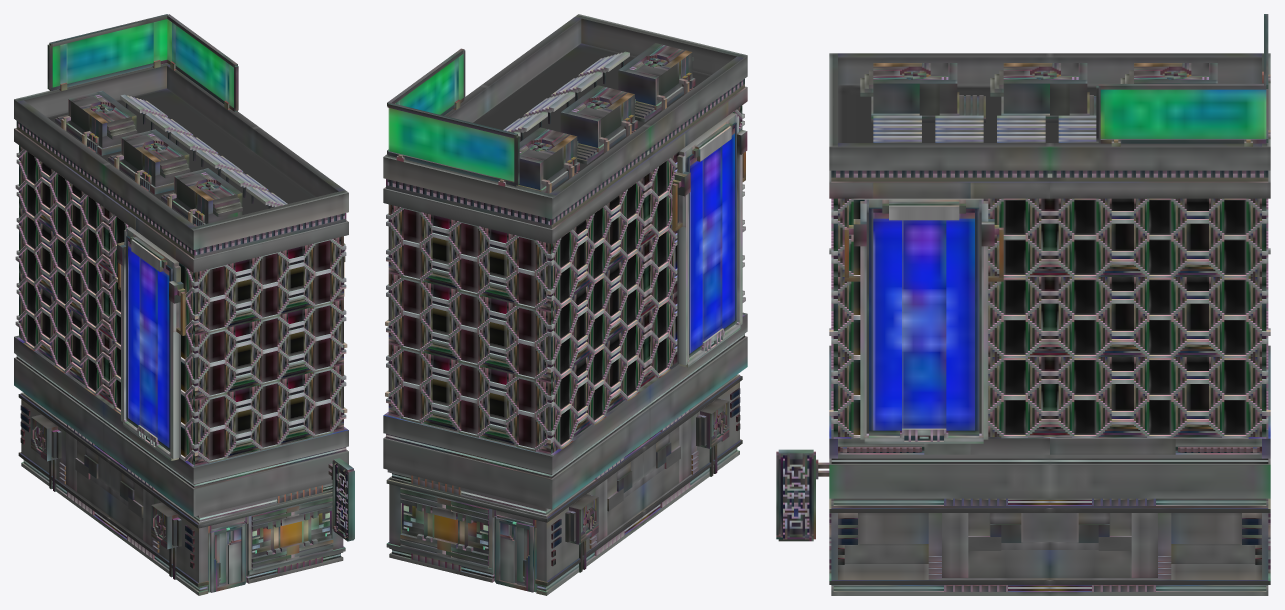
File: Building_06.glb
3 views of the same model, side by side, from view 1: azimuth 30°, elevation 25°; view 2: azimuth 150°, elevation 25°; view 3: azimuth 270°, elevation 25° (orthographic). The views are drawn at different scales.
Visible parts, largest first — view 1: Module_Windows_Unlit_I_00, Module_Windows_Unlit_E_00, Module_Door_B_02_1, Screen_A_02_1, Rooftop_A_01, Module_Windows_Unlit_G_00, Rooftop_A_01_1, Screen_J_00, Module_Flat_A_01_1, Module_Windows_Unlit_J_00, Module_Windows_Unlit_F_00, Module_Windows_Unlit_H_00 (+15 smaller); view 2: Module_Windows_Unlit_J_00, Module_Windows_Unlit_F_00, Module_Windows_Unlit_H_00, Module_Door_B_02, Screen_A_02_1, Rooftop_A_01, Rooftop_A_01_1, Screen_J_00, Module_Flat_A_01, Module_Door_B_02_1, Module_Windows_Unlit_E_00, Fan_D_03_1 (+12 smaller); view 3: Screen_A_02, Module_Windows_Unlit_J_00, Module_Windows_Unlit_F_00, Module_Door_B_02, Module_Door_B_02_1, Module_Windows_Unlit_H_00, Rooftop_A_01, Rooftop_A_01_1, Module_Windows_Unlit_I_00, Module_Windows_Unlit_E_00, Screen_J_00, Module_Flat_A_01 (+10 smaller).
Part boxes in pixels (box(x1,y1,x2,y2)): Module_Windows_Unlit_I_00: box(103, 337, 348, 484); Module_Windows_Unlit_E_00: box(103, 191, 348, 335); Module_Door_B_02_1: box(108, 457, 345, 595); Screen_A_02_1: box(117, 227, 185, 460); Rooftop_A_01: box(103, 127, 348, 255); Module_Windows_Unlit_G_00: box(105, 272, 347, 400); Rooftop_A_01_1: box(14, 63, 258, 189); Screen_J_00: box(47, 14, 238, 111); Module_Flat_A_01_1: box(103, 420, 348, 516); Module_Windows_Unlit_J_00: box(14, 272, 106, 418); Module_Windows_Unlit_F_00: box(14, 126, 106, 271); Module_Windows_Unlit_H_00: box(15, 207, 106, 336); Module_Windows_Unlit_J_00: box(383, 314, 649, 474); Module_Windows_Unlit_F_00: box(383, 155, 649, 312); Module_Windows_Unlit_H_00: box(385, 243, 648, 383); Module_Door_B_02: box(386, 445, 644, 595); Screen_A_02_1: box(672, 112, 747, 367); Rooftop_A_01: box(481, 14, 747, 154); Rooftop_A_01_1: box(383, 85, 649, 225); Screen_J_00: box(387, 48, 519, 186); Module_Flat_A_01: box(383, 404, 649, 509); Module_Door_B_02_1: box(641, 374, 742, 524); Module_Windows_Unlit_E_00: box(646, 84, 747, 242); Fan_D_03_1: box(560, 85, 637, 164); Screen_A_02: box(844, 198, 1003, 443); Module_Windows_Unlit_J_00: box(1050, 328, 1270, 458); Module_Windows_Unlit_F_00: box(1050, 170, 1270, 277); Module_Door_B_02: box(1050, 498, 1270, 595); Module_Door_B_02_1: box(829, 498, 1049, 595); Module_Windows_Unlit_H_00: box(1050, 248, 1270, 357); Rooftop_A_01: box(829, 53, 1049, 177); Rooftop_A_01_1: box(1050, 53, 1270, 177); Module_Windows_Unlit_I_00: box(829, 328, 1049, 458); Module_Windows_Unlit_E_00: box(829, 170, 1049, 277); Screen_J_00: box(1096, 14, 1270, 146); Module_Flat_A_01: box(1050, 458, 1270, 498).
Bounding box in the file's own units: 5.5 × 12.8 × 11.2.
2 materials, 2 textured.
